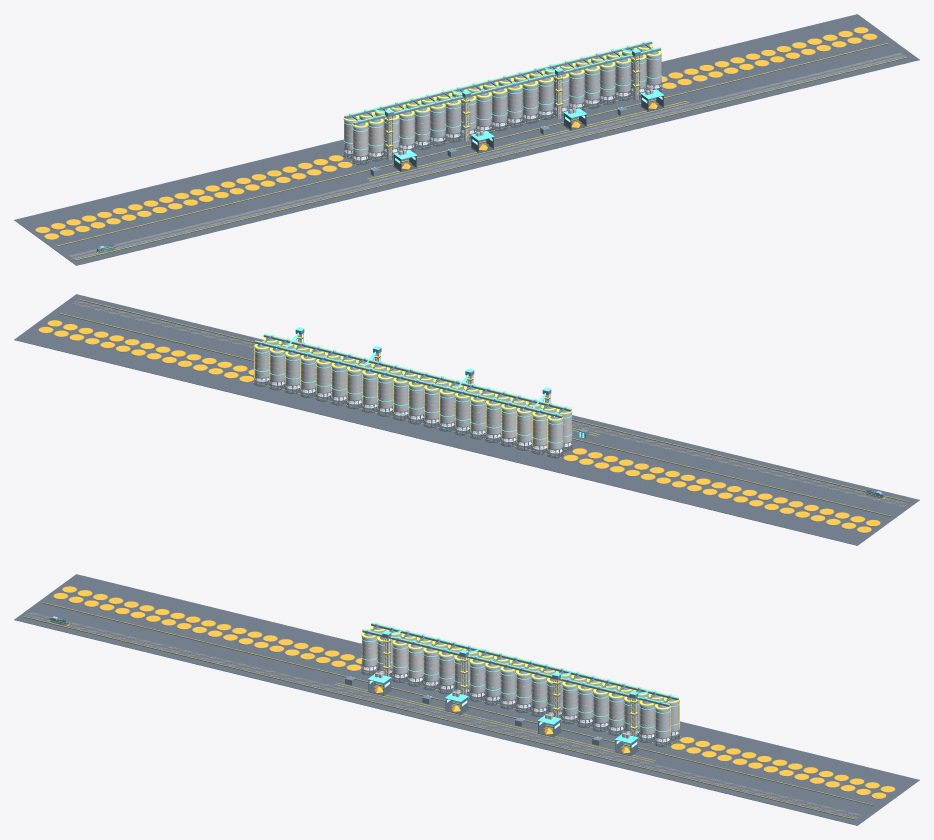
The model's file is ash-core-v4-low.glb.
3 renders of one model, top to bottom at view 1: azimuth 30°, elevation 25°; view 2: azimuth 150°, elevation 25°; view 3: azimuth 330°, elevation 25°, orthographic.
Visible parts, largest first — view 1: ash-core-v4-high.glb-v5_bulk_apron, ash-core-v4-high.glb-v5_flyash_silo, ash-core-v4-high.glb-v5_silo_steel, ash-core-v4-high.glb-v5_bulk_orange, ash-core-v4-high.glb-v5_bulk_ballast, ash-core-v4-high.glb-v5_bulk_yellow, ash-core-v4-high.glb-v5_bulk_gunmetal, ash-core-v4-high.glb-v5_bulk_rail, ash-core-v4-high.glb-v5_reserved_ring, ash-core-v4-high.glb-v5_bulk_silver, ash-core-v4-high.glb-v5_bulk_cyan, ash-core-v4-high.glb-v5_cement_silo (+1 smaller); view 2: ash-core-v4-high.glb-v5_bulk_apron, ash-core-v4-high.glb-v5_flyash_silo, ash-core-v4-high.glb-v5_silo_steel, ash-core-v4-high.glb-v5_bulk_orange, ash-core-v4-high.glb-v5_bulk_yellow, ash-core-v4-high.glb-v5_bulk_gunmetal, ash-core-v4-high.glb-v5_bulk_ballast, ash-core-v4-high.glb-v5_reserved_ring, ash-core-v4-high.glb-v5_cement_silo, ash-core-v4-high.glb-v5_bulk_cyan, ash-core-v4-high.glb-v5_bulk_rail, ash-core-v4-high.glb-v5_bulk_silver; view 3: ash-core-v4-high.glb-v5_bulk_apron, ash-core-v4-high.glb-v5_flyash_silo, ash-core-v4-high.glb-v5_silo_steel, ash-core-v4-high.glb-v5_bulk_orange, ash-core-v4-high.glb-v5_bulk_ballast, ash-core-v4-high.glb-v5_bulk_yellow, ash-core-v4-high.glb-v5_bulk_gunmetal, ash-core-v4-high.glb-v5_bulk_rail, ash-core-v4-high.glb-v5_reserved_ring, ash-core-v4-high.glb-v5_bulk_silver, ash-core-v4-high.glb-v5_bulk_cyan, ash-core-v4-high.glb-v5_cement_silo (+1 smaller).
Part boxes in pixels (x1=…): ash-core-v4-high.glb-v5_bulk_apron: x1=14, y1=14, x2=919, y2=265; ash-core-v4-high.glb-v5_flyash_silo: x1=405, y1=48, x2=661, y2=145; ash-core-v4-high.glb-v5_silo_steel: x1=343, y1=42, x2=664, y2=176; ash-core-v4-high.glb-v5_bulk_orange: x1=35, y1=27, x2=876, y2=239; ash-core-v4-high.glb-v5_bulk_ballast: x1=69, y1=52, x2=905, y2=259; ash-core-v4-high.glb-v5_bulk_yellow: x1=56, y1=40, x2=906, y2=260; ash-core-v4-high.glb-v5_bulk_gunmetal: x1=56, y1=43, x2=907, y2=260; ash-core-v4-high.glb-v5_bulk_rail: x1=70, y1=53, x2=904, y2=258; ash-core-v4-high.glb-v5_reserved_ring: x1=35, y1=27, x2=877, y2=239; ash-core-v4-high.glb-v5_bulk_silver: x1=99, y1=43, x2=661, y2=252; ash-core-v4-high.glb-v5_bulk_cyan: x1=344, y1=41, x2=663, y2=168; ash-core-v4-high.glb-v5_cement_silo: x1=344, y1=109, x2=414, y2=160; ash-core-v4-high.glb-v5_bulk_apron: x1=14, y1=294, x2=919, y2=545; ash-core-v4-high.glb-v5_flyash_silo: x1=254, y1=342, x2=510, y2=438; ash-core-v4-high.glb-v5_silo_steel: x1=254, y1=329, x2=588, y2=456; ash-core-v4-high.glb-v5_bulk_orange: x1=39, y1=320, x2=880, y2=532; ash-core-v4-high.glb-v5_bulk_yellow: x1=60, y1=299, x2=909, y2=515; ash-core-v4-high.glb-v5_bulk_gunmetal: x1=59, y1=299, x2=910, y2=516; ash-core-v4-high.glb-v5_bulk_ballast: x1=72, y1=300, x2=908, y2=507; ash-core-v4-high.glb-v5_reserved_ring: x1=38, y1=320, x2=880, y2=533; ash-core-v4-high.glb-v5_cement_silo: x1=501, y1=402, x2=571, y2=453; ash-core-v4-high.glb-v5_bulk_cyan: x1=254, y1=327, x2=584, y2=437; ash-core-v4-high.glb-v5_bulk_rail: x1=73, y1=300, x2=907, y2=506; ash-core-v4-high.glb-v5_bulk_silver: x1=255, y1=334, x2=881, y2=493; ash-core-v4-high.glb-v5_bulk_apron: x1=14, y1=574, x2=919, y2=825; ash-core-v4-high.glb-v5_flyash_silo: x1=423, y1=645, x2=679, y2=742; ash-core-v4-high.glb-v5_silo_steel: x1=345, y1=623, x2=679, y2=745; ash-core-v4-high.glb-v5_bulk_orange: x1=53, y1=586, x2=894, y2=798; ash-core-v4-high.glb-v5_bulk_ballast: x1=25, y1=612, x2=861, y2=818; ash-core-v4-high.glb-v5_bulk_yellow: x1=24, y1=602, x2=873, y2=819; ash-core-v4-high.glb-v5_bulk_gunmetal: x1=23, y1=602, x2=874, y2=819; ash-core-v4-high.glb-v5_bulk_rail: x1=26, y1=612, x2=860, y2=818; ash-core-v4-high.glb-v5_reserved_ring: x1=53, y1=586, x2=895, y2=799; ash-core-v4-high.glb-v5_bulk_silver: x1=52, y1=616, x2=679, y2=738; ash-core-v4-high.glb-v5_bulk_cyan: x1=350, y1=622, x2=679, y2=743; ash-core-v4-high.glb-v5_cement_silo: x1=362, y1=631, x2=432, y2=681.
Size of the model in its own units: 765 by 42.66 by 98.
